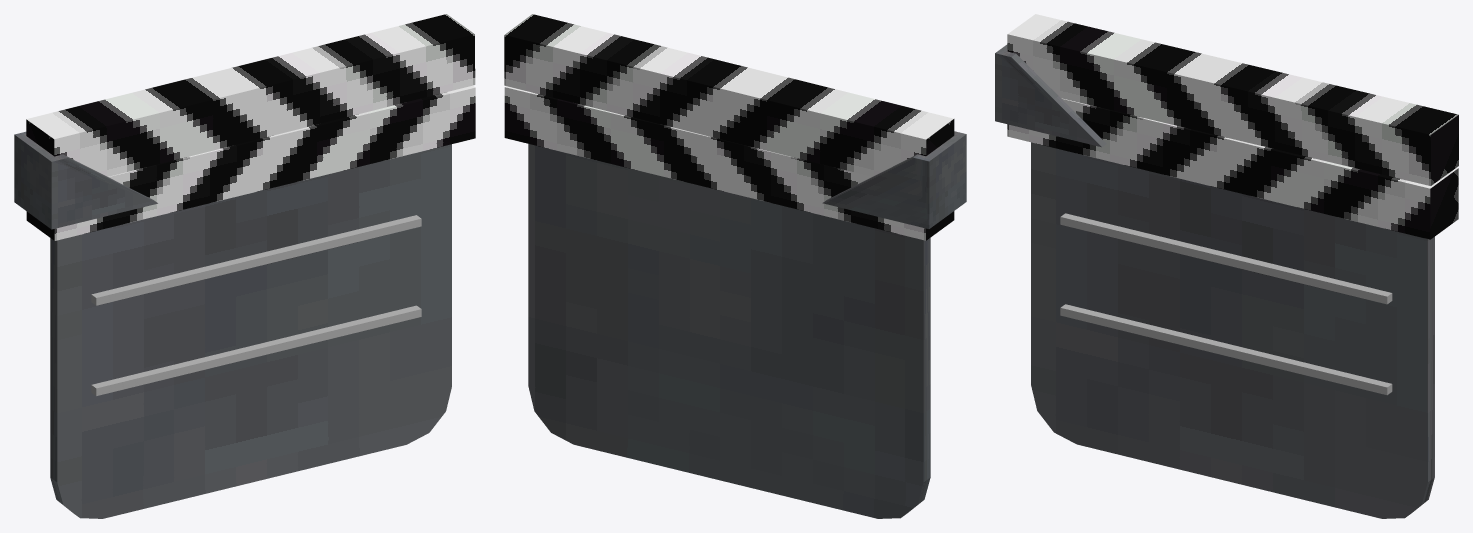
File: item_clapper.glb
3 renders of one model, left to right at view 1: azimuth 30°, elevation 25°; view 2: azimuth 150°, elevation 25°; view 3: azimuth 330°, elevation 25°, orthographic.
Visible parts, largest first — view 1: Cube, Cube.002, Cube.001, Cube.003, Cube.004, Cube.005; view 2: Cube, Cube.002, Cube.001, Cube.003; view 3: Cube, Cube.002, Cube.001, Cube.003, Cube.005, Cube.004.
Boxes of the visible parts, x1=… form: Cube: x1=50, y1=144, x2=451, y2=518; Cube.002: x1=26, y1=14, x2=475, y2=176; Cube.001: x1=26, y1=85, x2=475, y2=240; Cube.003: x1=14, y1=131, x2=157, y2=229; Cube.004: x1=91, y1=215, x2=421, y2=305; Cube.005: x1=91, y1=305, x2=421, y2=395; Cube: x1=528, y1=144, x2=930, y2=518; Cube.002: x1=504, y1=14, x2=954, y2=176; Cube.001: x1=504, y1=86, x2=954, y2=240; Cube.003: x1=822, y1=131, x2=966, y2=228; Cube: x1=1031, y1=142, x2=1434, y2=518; Cube.002: x1=1007, y1=14, x2=1458, y2=185; Cube.001: x1=1007, y1=98, x2=1458, y2=239; Cube.003: x1=995, y1=44, x2=1106, y2=147; Cube.005: x1=1060, y1=304, x2=1392, y2=395; Cube.004: x1=1060, y1=213, x2=1392, y2=304.
Bounding box in the file's own units: 0.4184 × 0.3765 × 0.0632.
3 materials, 2 textured.
